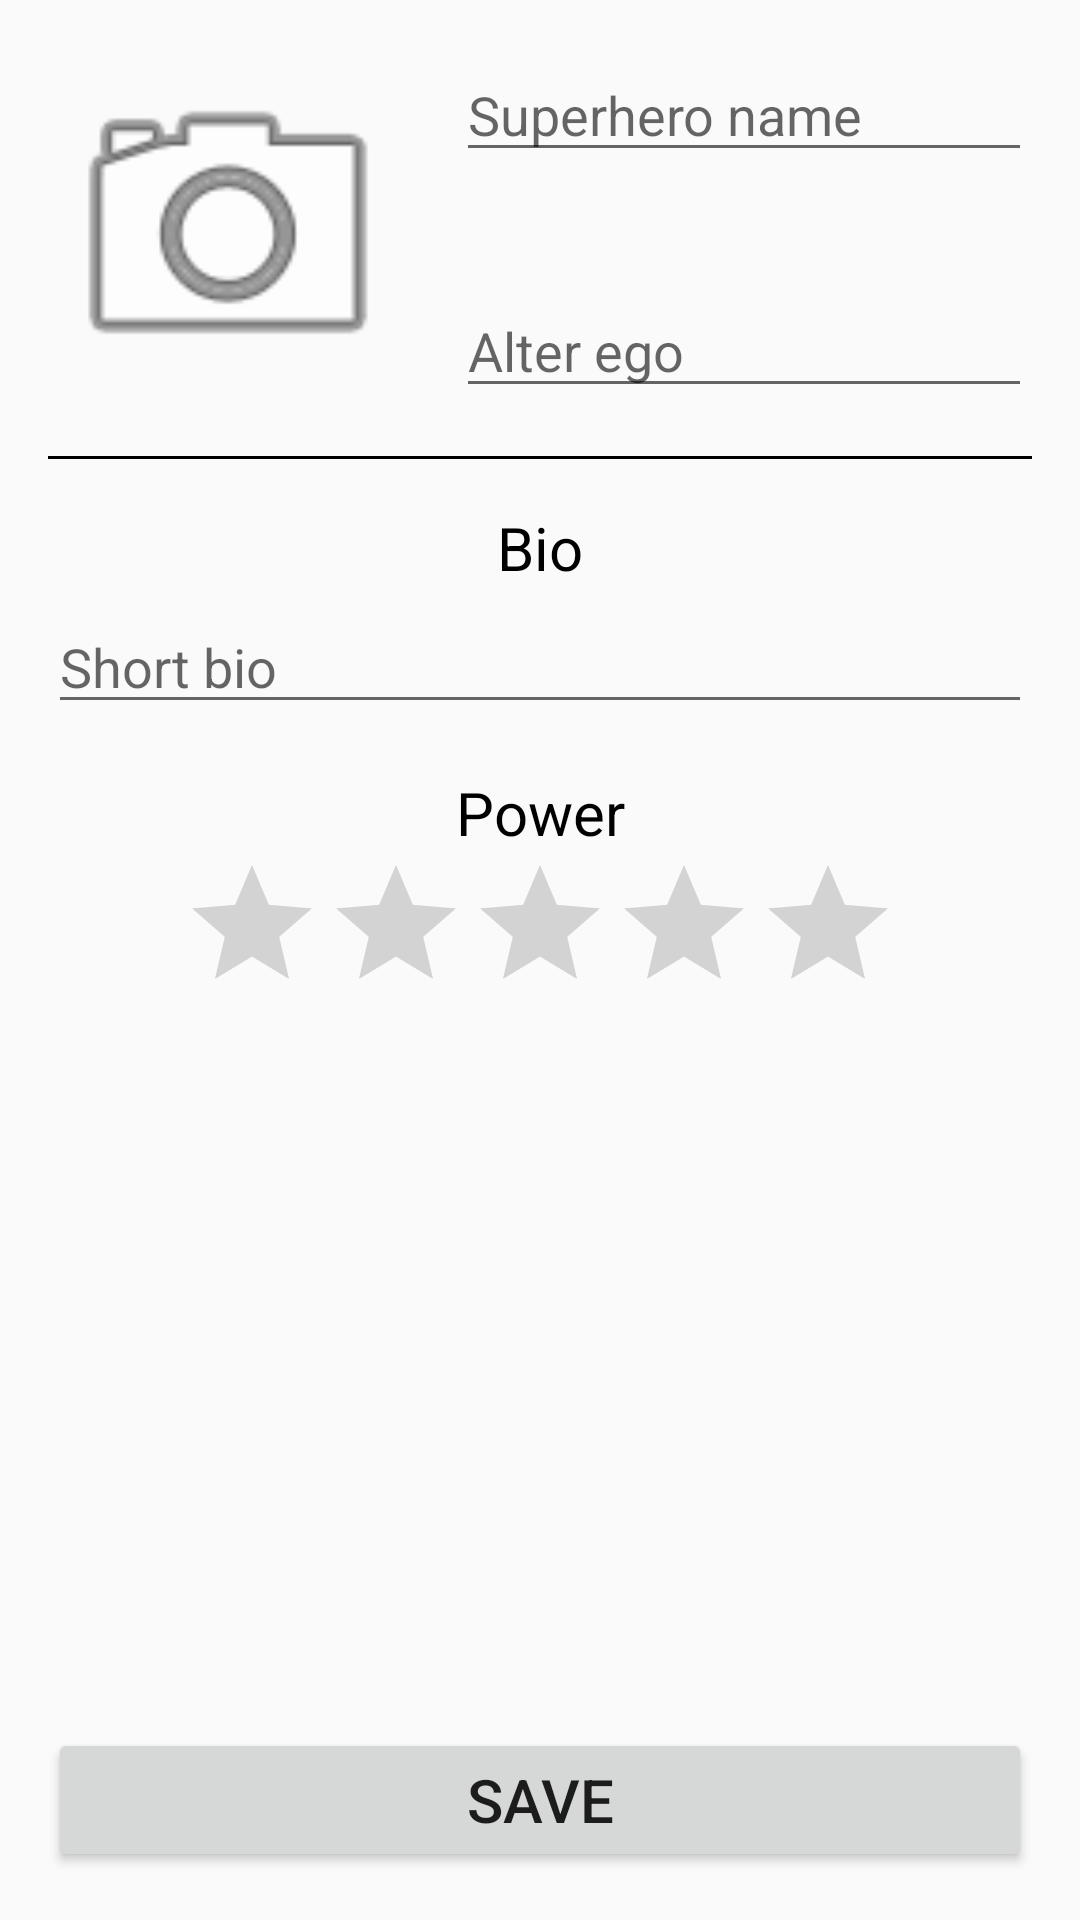

Screen size 1080×1920. Icon name, then its box in pixels as (x1, y1, x2, y2):
camera: (89, 111, 367, 333)
